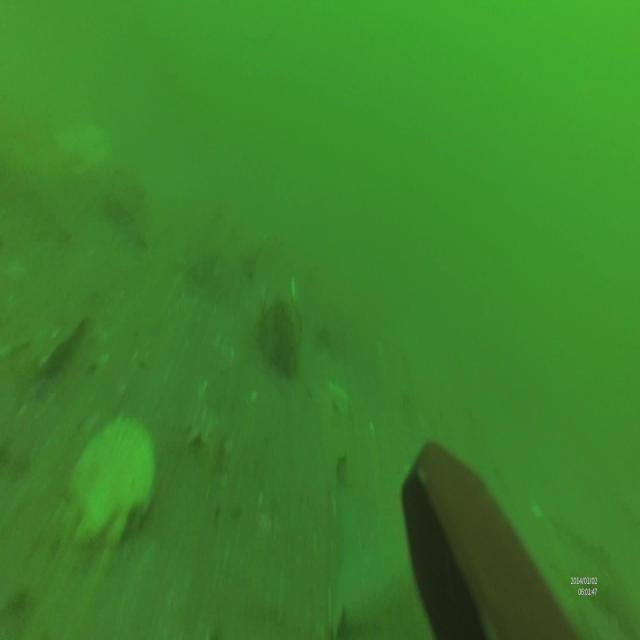scallop: (74, 415, 154, 540)
